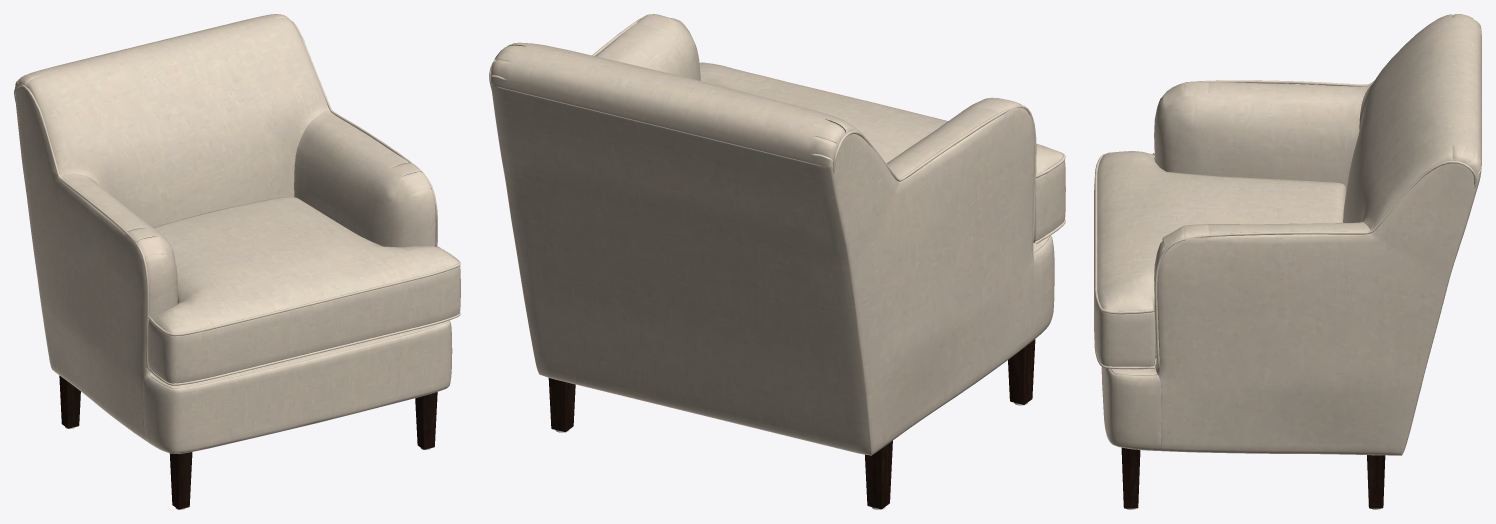
3 renders of one model, left to right at view 1: azimuth 30°, elevation 25°; view 2: azimuth 150°, elevation 25°; view 3: azimuth 270°, elevation 25°, orthographic. The views are drawn at different scales.
Visible parts, largest first — view 1: Mesh_0; view 2: Mesh_0; view 3: Mesh_0.
Part boxes in pixels (box(x1,y1,x2,y2)): Mesh_0: box(14, 14, 460, 509); Mesh_0: box(489, 14, 1065, 509); Mesh_0: box(1094, 14, 1481, 509).
Size of the model in its own units: 0.7602 by 0.8 by 0.7801.
1 material, 1 textured.
